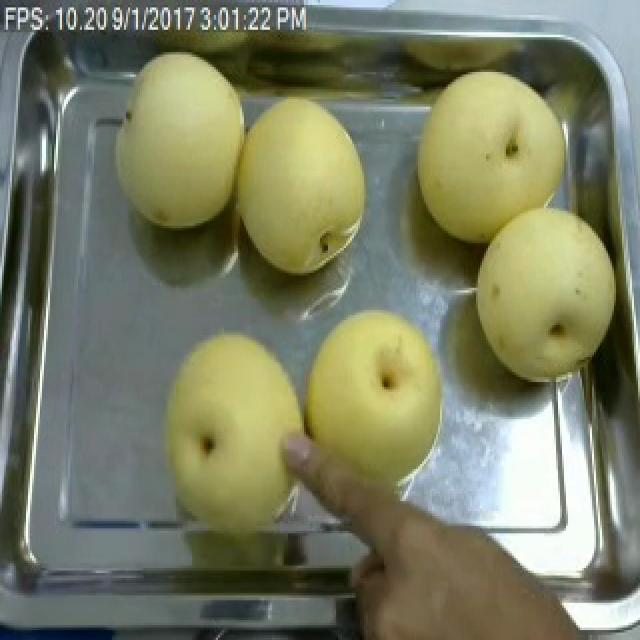Fruit: (332, 483, 606, 640), (144, 315, 320, 538), (288, 298, 458, 528), (402, 57, 582, 256), (462, 196, 628, 394), (224, 84, 382, 286), (98, 39, 256, 240)
